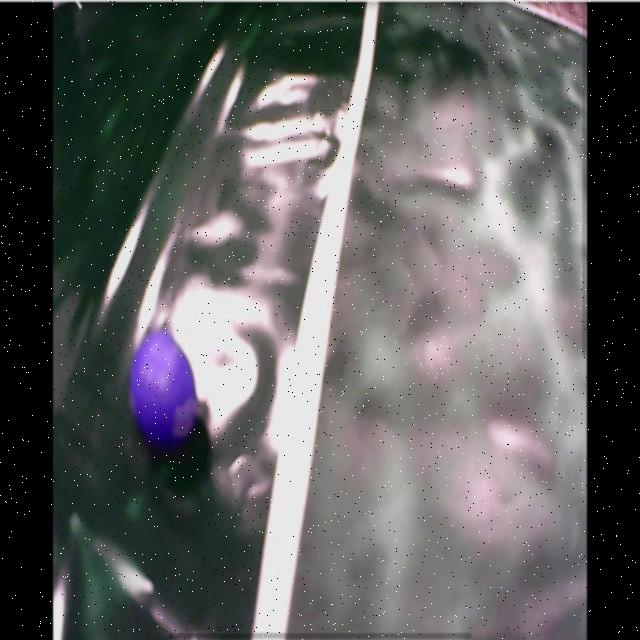ball: (125, 335, 196, 435)
